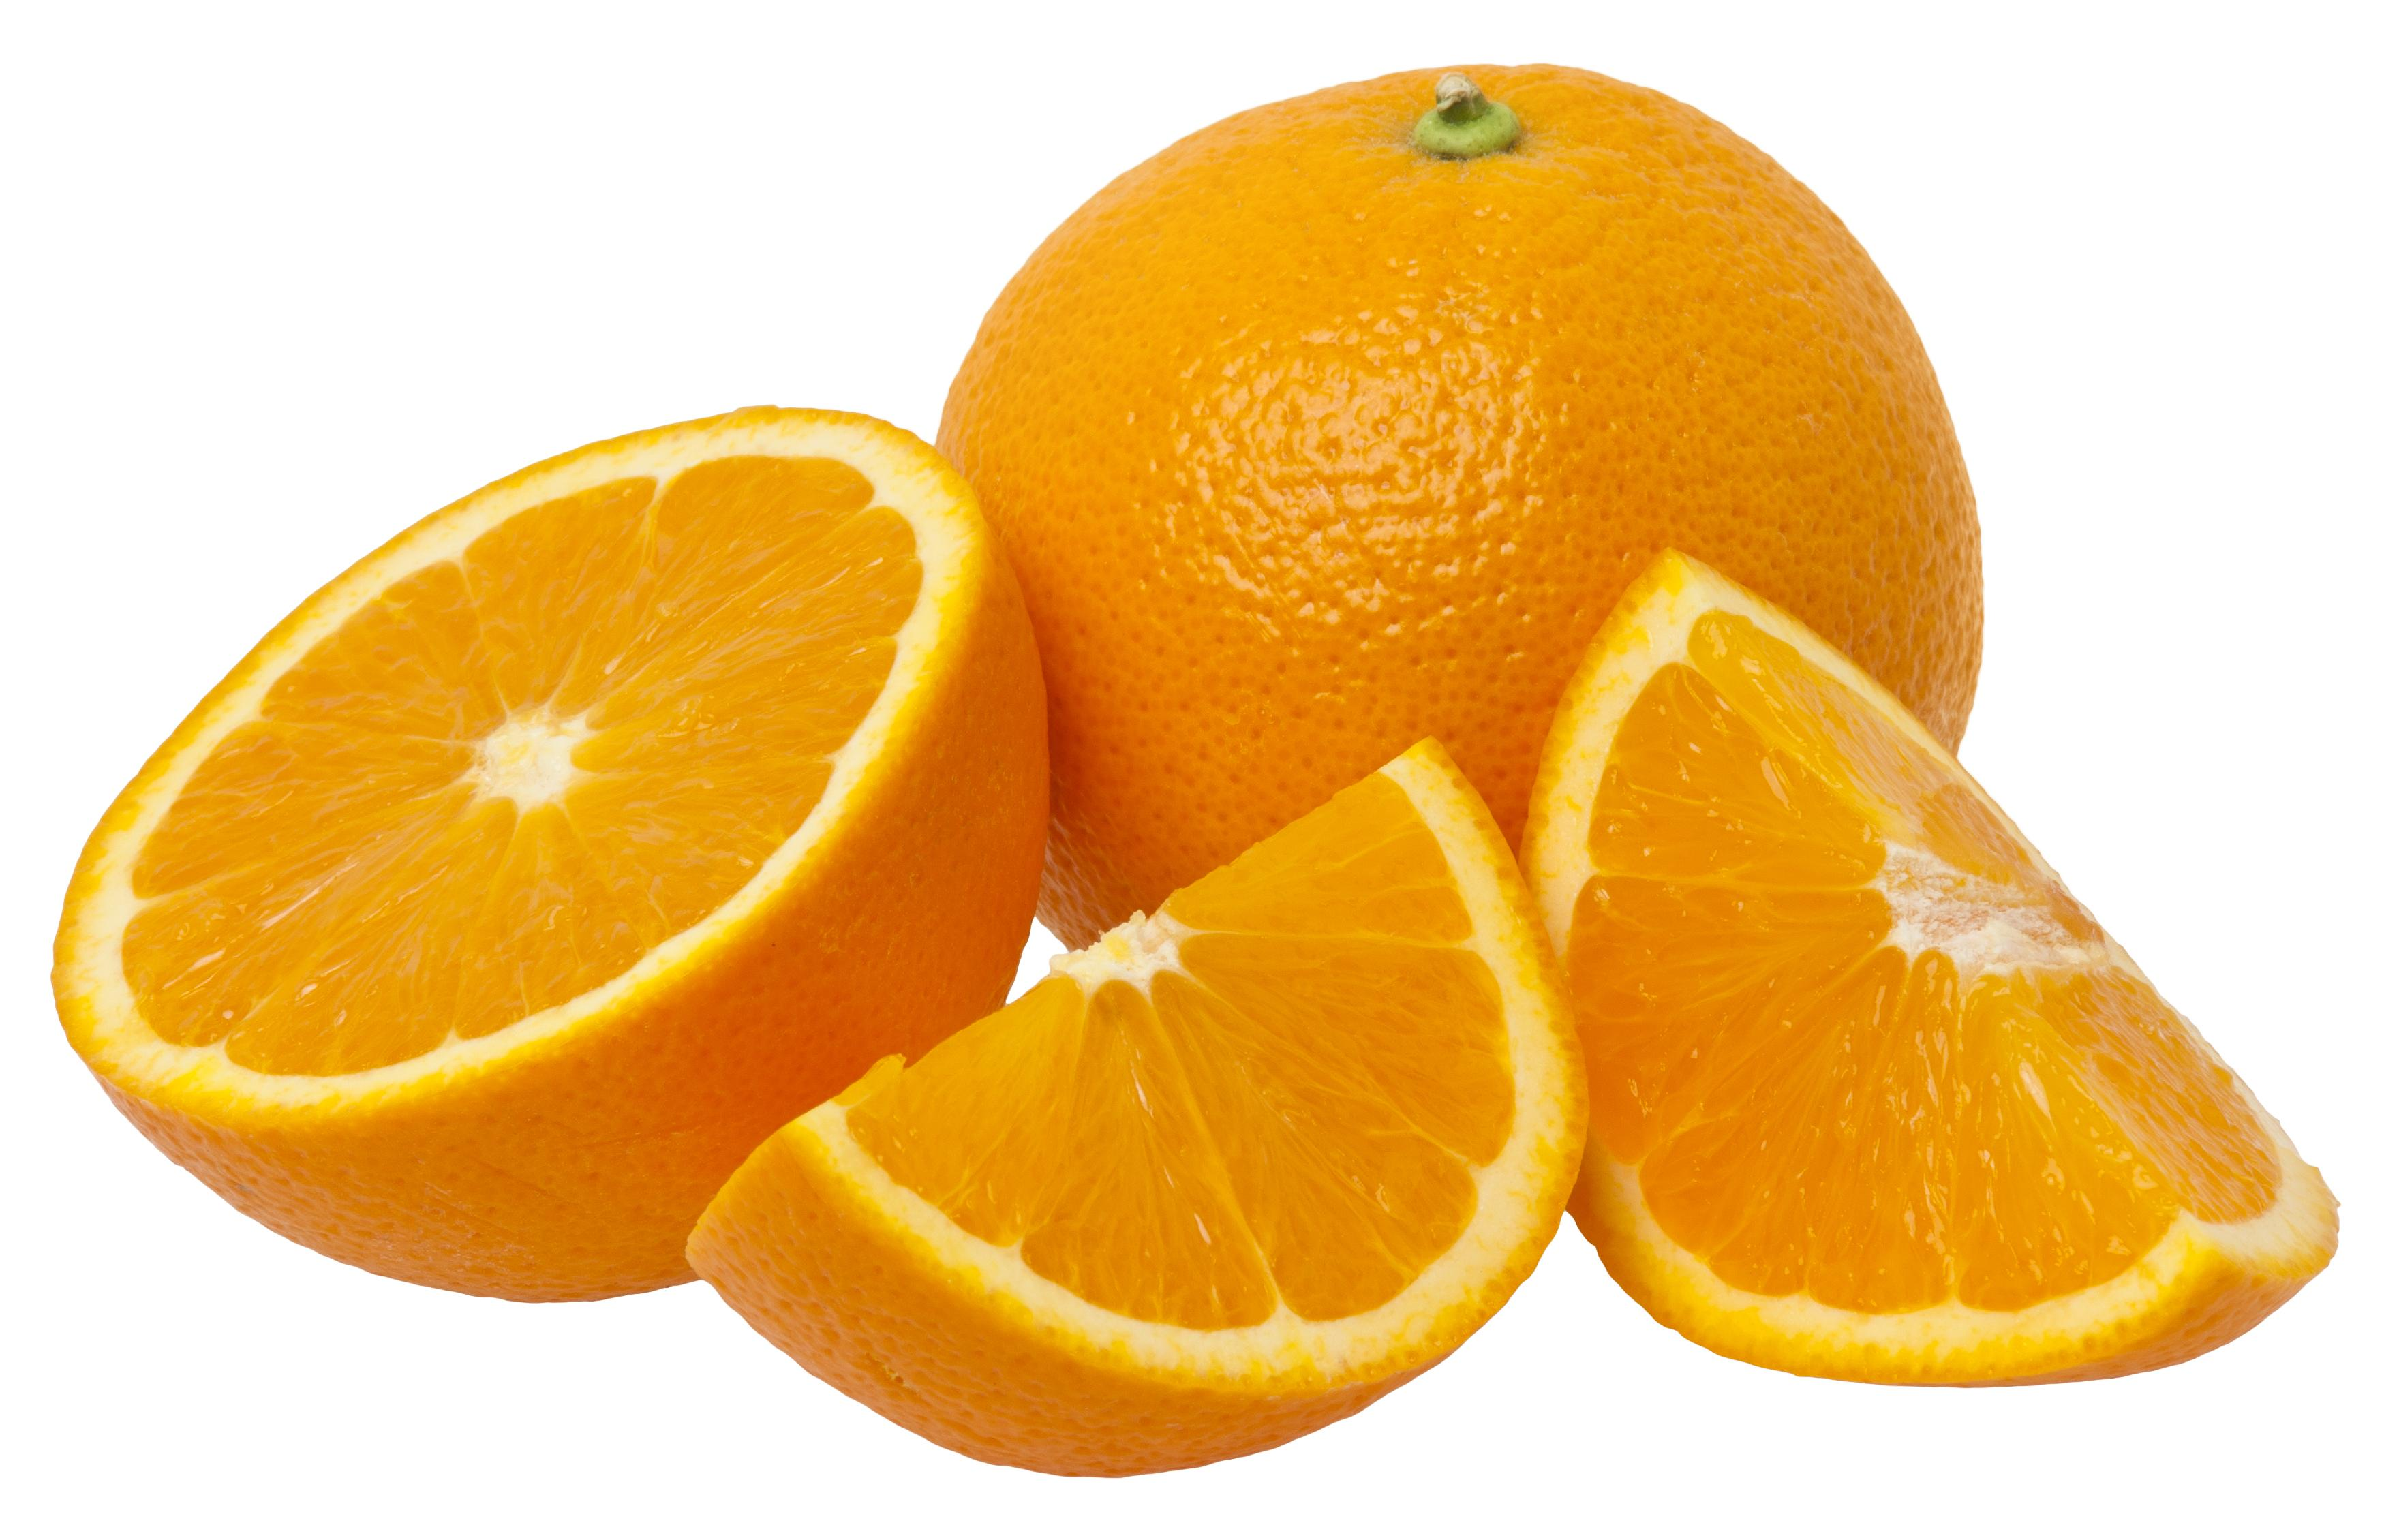orange: (45, 395, 1065, 1287), (850, 30, 2056, 732), (1544, 547, 2375, 1453), (673, 745, 1593, 1491)
